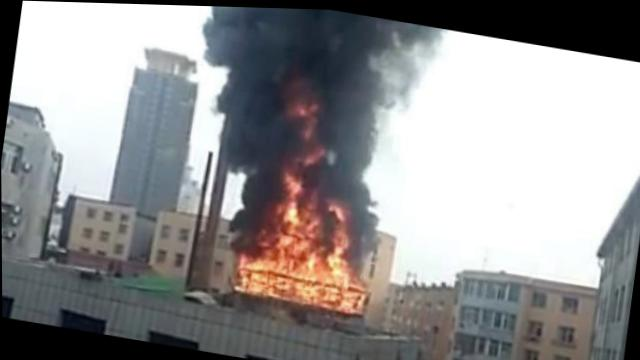fire: (223, 62, 400, 316)
